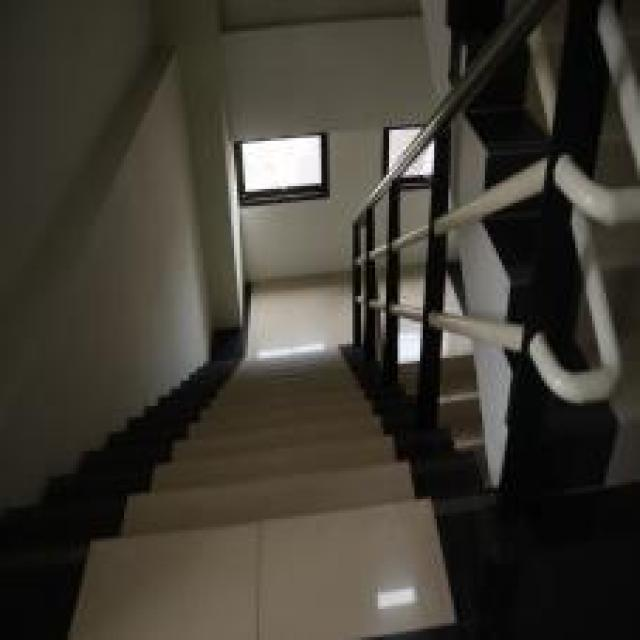downstair: (156, 376, 396, 638)
